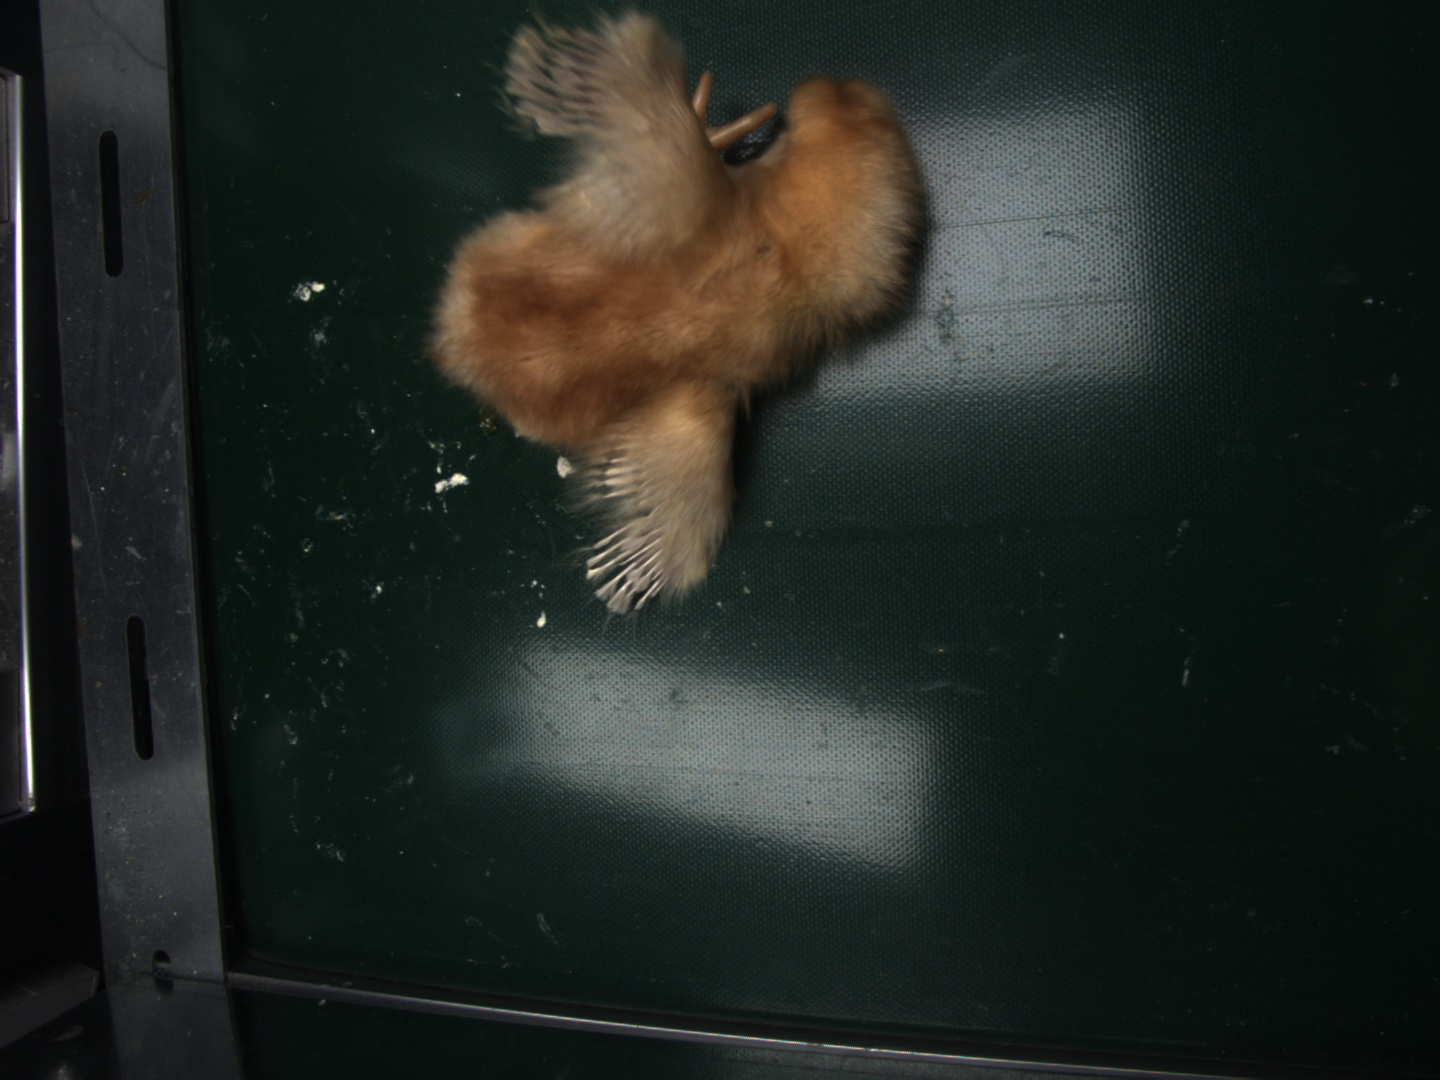female: (582, 514, 670, 617)
